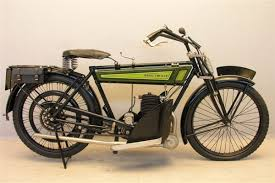bike: (6, 16, 269, 167)
